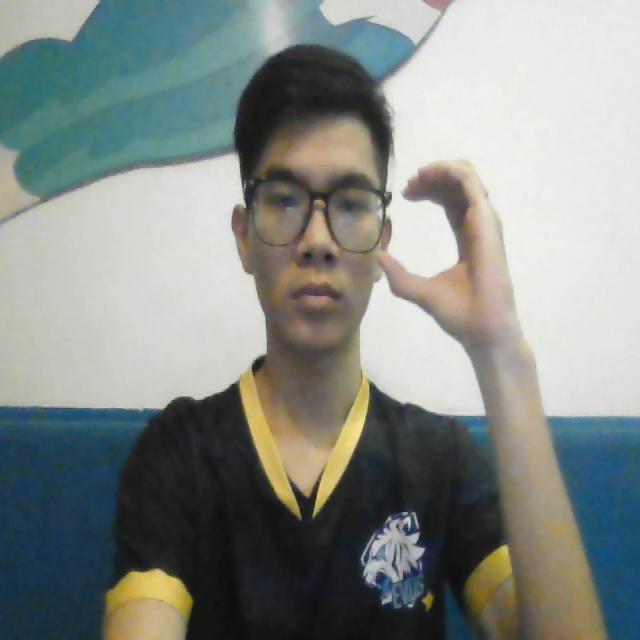C: (389, 139, 535, 329)
